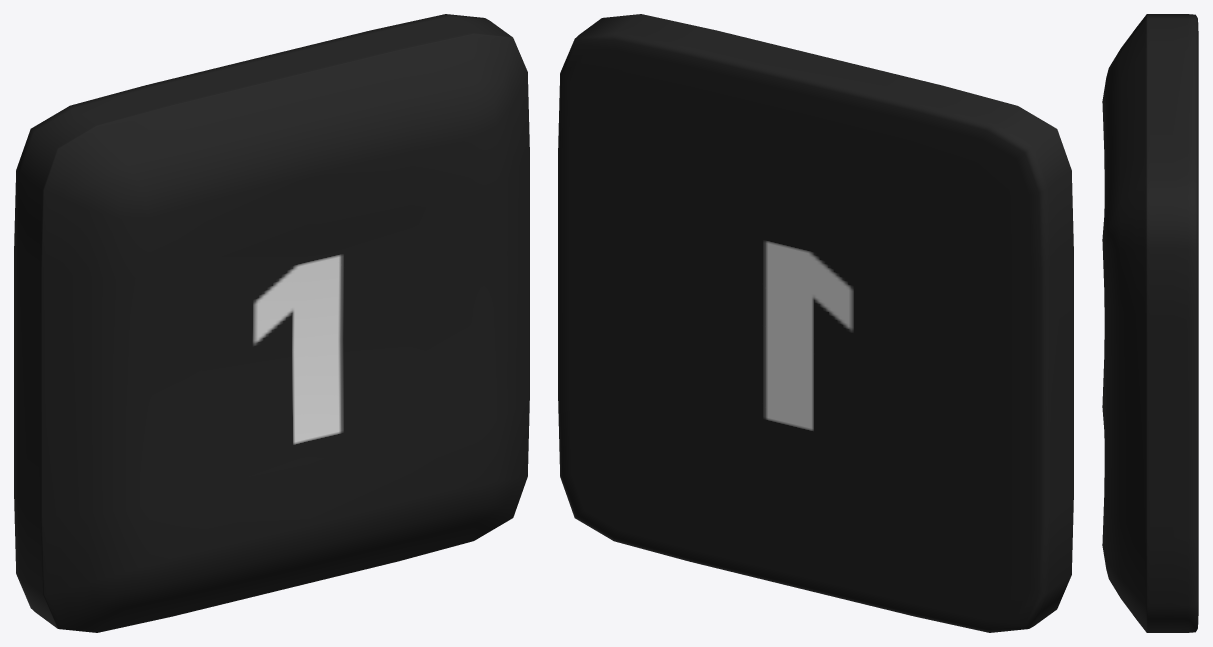
File: Keypad_1.fbx
3 renders of one model, left to right at view 1: azimuth 30°, elevation 25°; view 2: azimuth 150°, elevation 25°; view 3: azimuth 270°, elevation 25°, orthographic. The views are drawn at different scales.
Parts seen in each view (by area): view 1: Plane; view 2: Plane; view 3: Plane.
Boxes of the visible parts, x1,y1,x2,y2 form: Plane: (14, 14, 529, 632); Plane: (558, 14, 1073, 632); Plane: (1102, 14, 1198, 632).
Bounding box in the file's own units: 10 × 10 × 1.93.
1 material, 1 textured.
